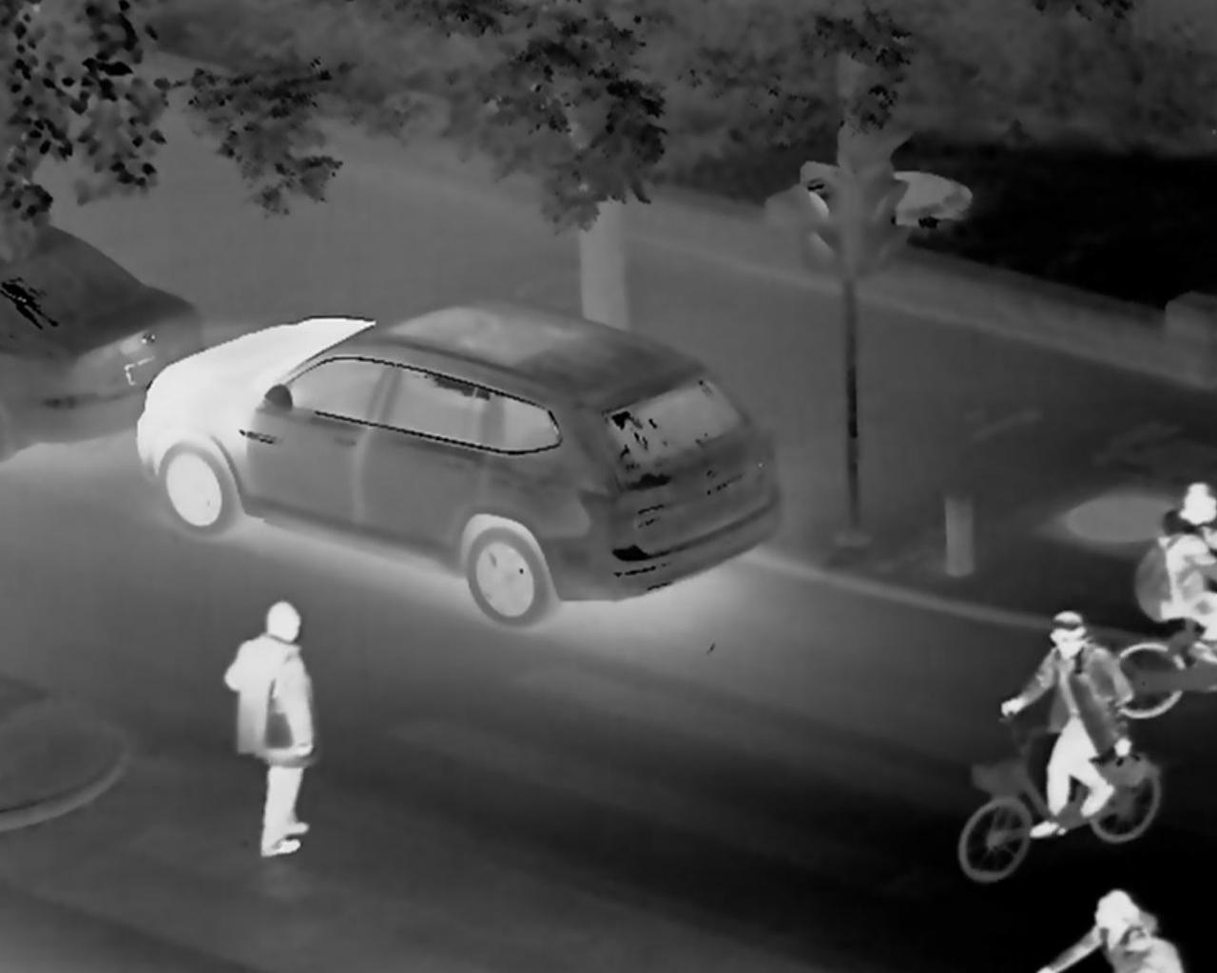person: (210, 586, 364, 860), (1008, 601, 1152, 835), (1155, 474, 1217, 648), (1079, 896, 1146, 973)
